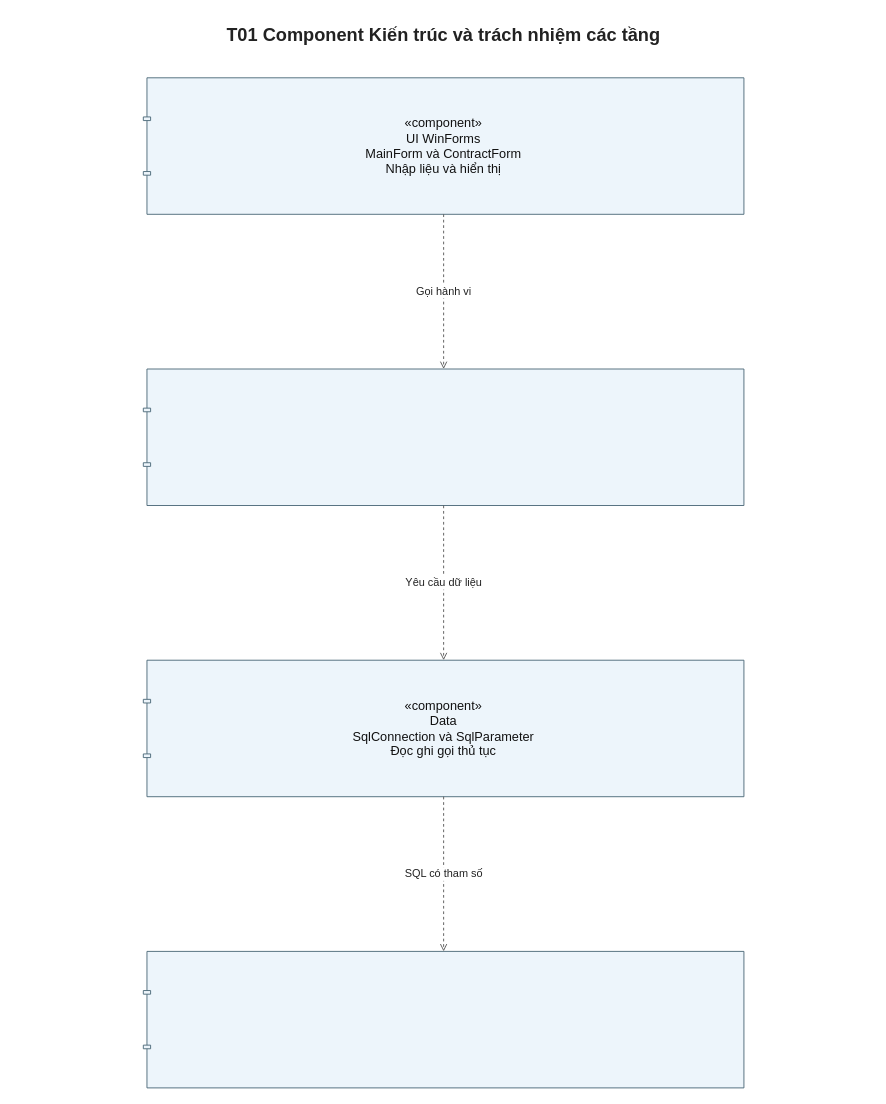
The diagram is 886 pixels wide and 1104 high, and some of its shapes have lost their labels. Each missing label, with the centre of its shape:
«component» Service HrService và Catalog Quyền đầu vào điều phối: [443,437]
«component» SQL Server 21 bảng và stored procedure Ràng buộc khóa giao dịch: [443,1019]
